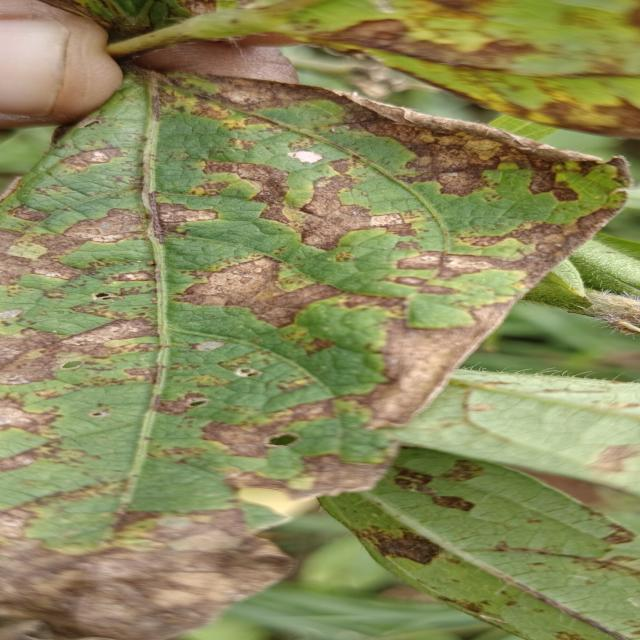Black gram_leaf spot: (0, 60, 640, 640), (300, 356, 640, 640), (143, 0, 640, 139)
